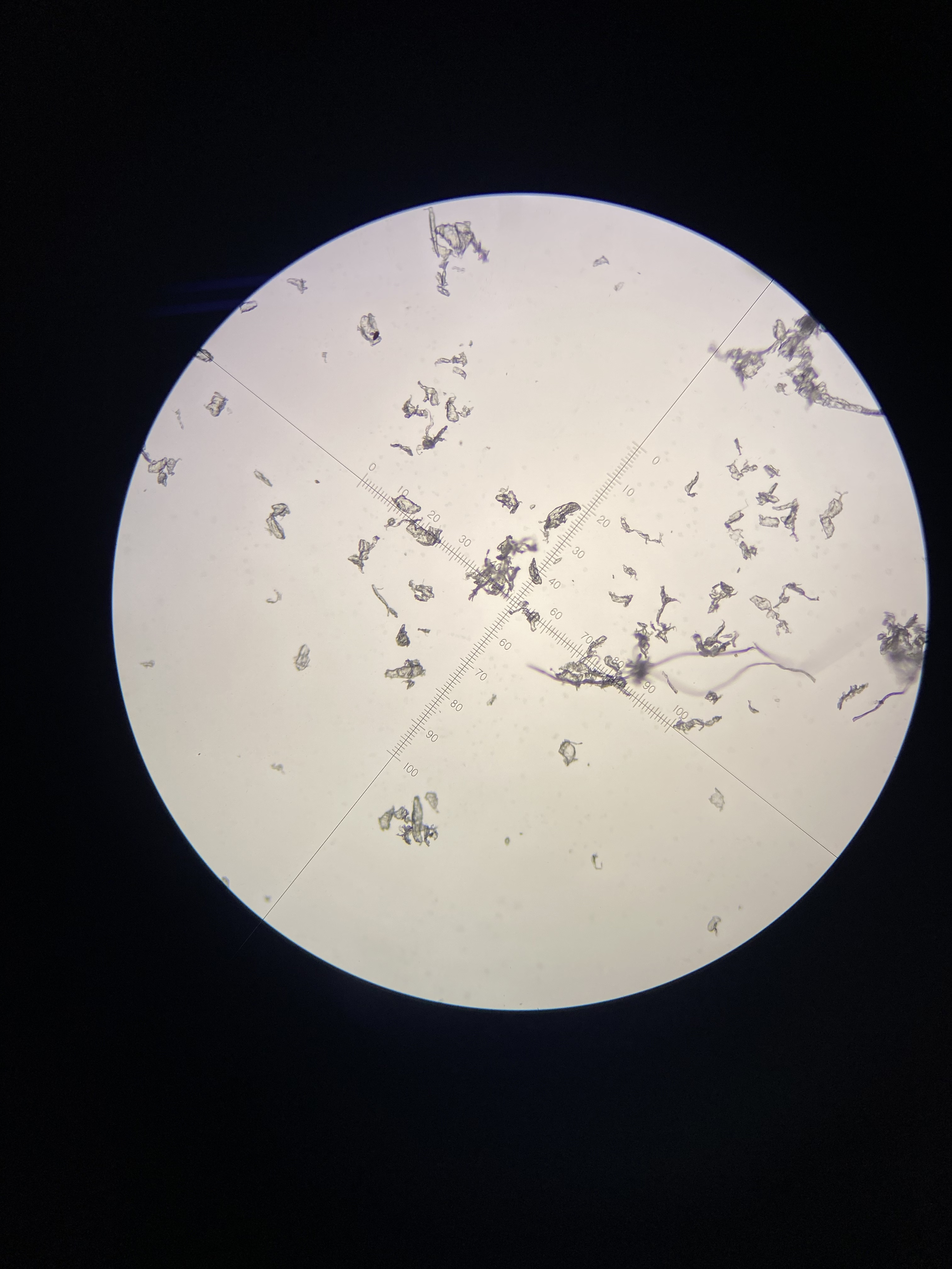microplastic: (704, 311, 891, 422), (424, 206, 490, 297), (548, 634, 633, 697), (461, 537, 540, 602), (874, 610, 933, 688), (748, 580, 824, 638), (373, 796, 439, 848), (402, 396, 449, 456), (849, 690, 912, 725), (690, 618, 740, 659), (649, 586, 683, 646), (138, 444, 183, 488), (382, 516, 442, 549), (541, 500, 582, 544), (771, 498, 808, 546), (819, 489, 848, 542), (381, 657, 428, 689), (345, 536, 382, 576), (619, 516, 664, 547), (506, 601, 545, 631), (354, 311, 385, 347), (265, 501, 292, 541), (835, 682, 869, 713), (370, 584, 399, 619), (708, 582, 737, 616), (724, 502, 749, 541), (672, 716, 725, 734), (556, 736, 584, 769), (630, 621, 653, 658), (202, 391, 233, 418), (446, 395, 474, 424), (725, 459, 759, 482), (415, 379, 441, 407), (497, 486, 522, 515), (407, 579, 436, 603), (390, 494, 422, 514), (432, 352, 470, 368), (293, 644, 314, 672), (756, 482, 780, 506), (607, 588, 634, 609), (683, 470, 701, 499), (708, 787, 726, 812), (395, 623, 412, 649), (253, 468, 274, 488), (423, 792, 442, 814), (660, 671, 679, 693), (740, 542, 760, 562), (388, 443, 415, 457), (286, 278, 309, 294), (589, 852, 606, 873), (192, 349, 214, 365), (528, 559, 541, 586), (622, 563, 640, 582), (757, 513, 779, 528), (265, 589, 283, 606), (237, 300, 260, 313), (173, 409, 185, 432), (762, 463, 780, 478), (704, 689, 723, 703), (592, 256, 612, 268), (745, 698, 759, 715), (453, 364, 466, 381), (139, 657, 156, 670), (270, 762, 286, 773), (733, 438, 743, 455), (417, 625, 431, 636), (486, 693, 497, 707), (613, 281, 625, 291), (321, 352, 329, 364), (504, 837, 511, 847), (529, 502, 535, 511), (469, 339, 474, 348), (314, 479, 320, 485), (611, 574, 616, 579)
